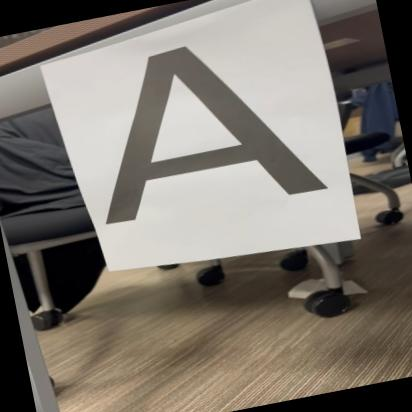seat: (56, 12, 348, 248)
